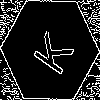K: (25, 25, 75, 77)
